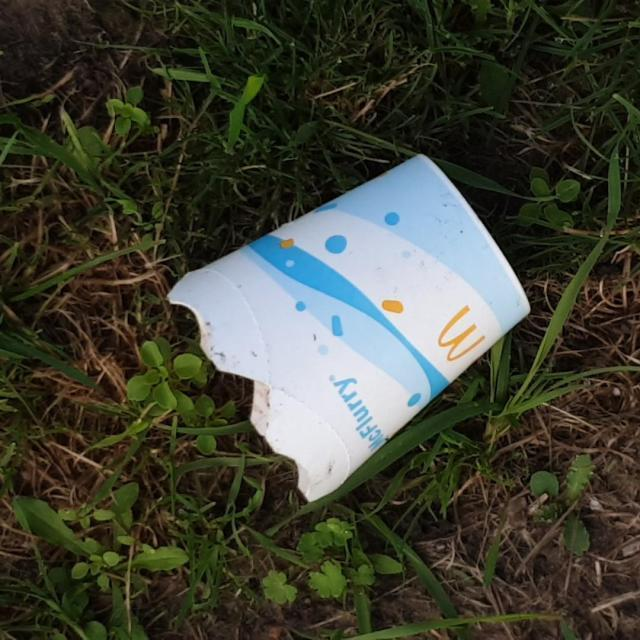Paper: (160, 146, 538, 508)
